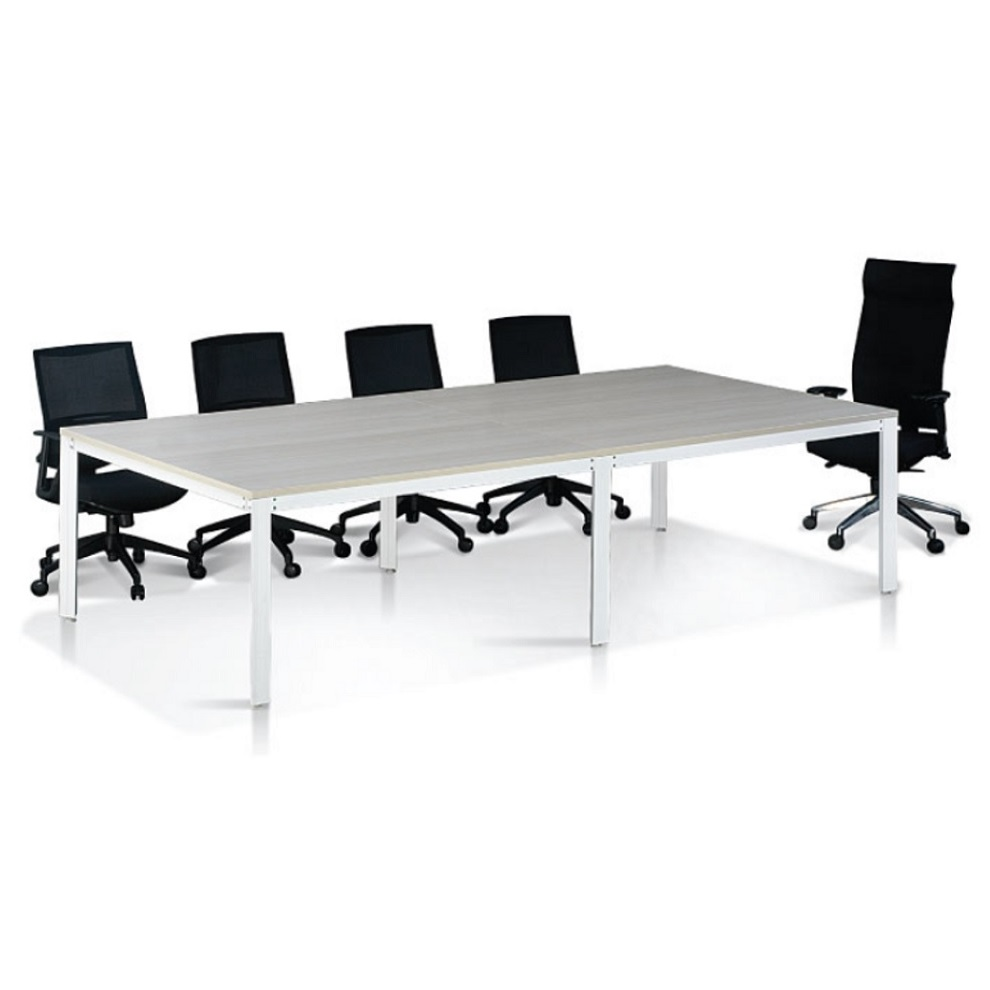conference_table: (59, 366, 901, 708)
